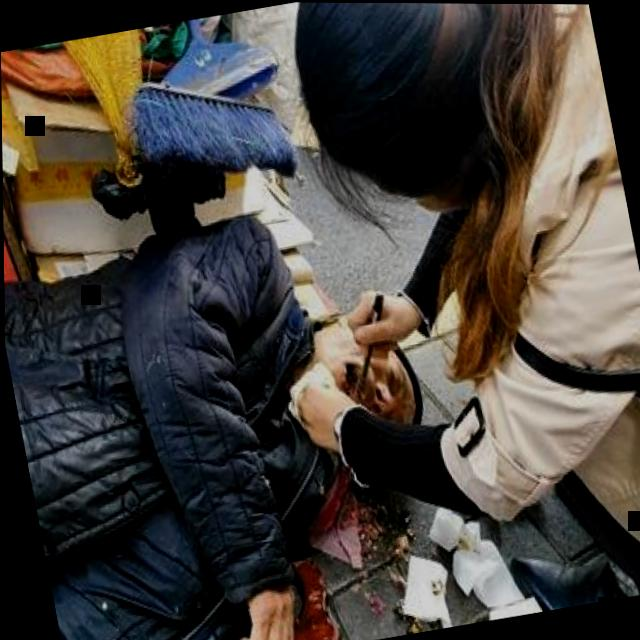Fall-Detected: (2, 183, 427, 640)
